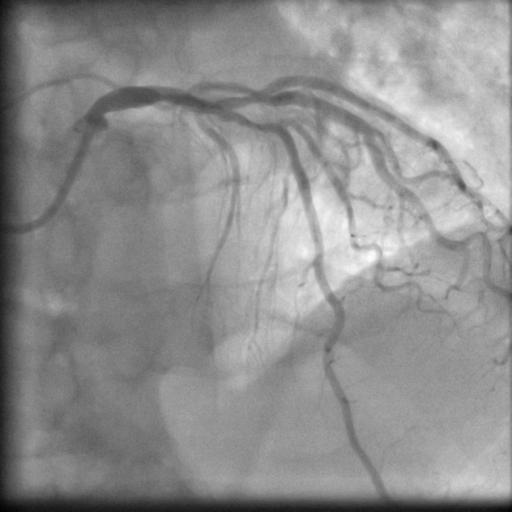Stenosis: (225, 110, 274, 134)
